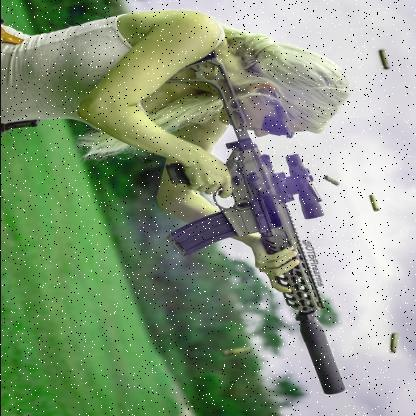rifle: (151, 49, 375, 391)
